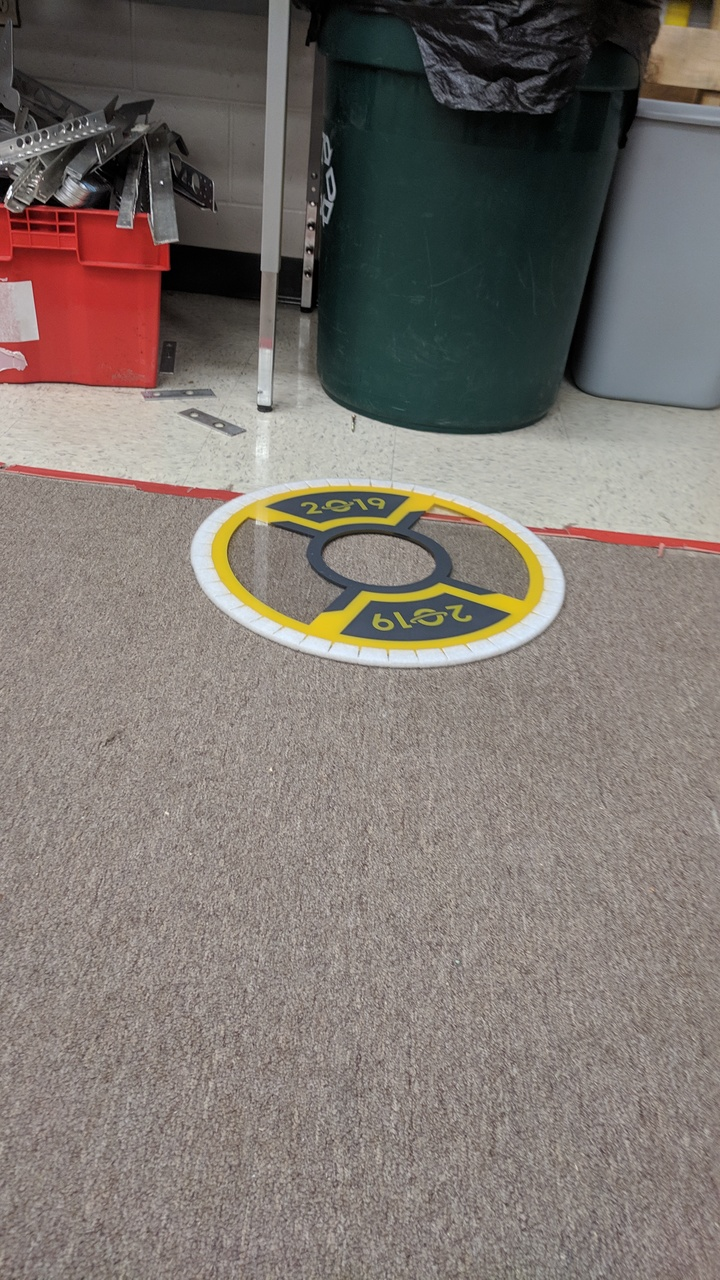hatch_panel: (182, 476, 596, 674)
